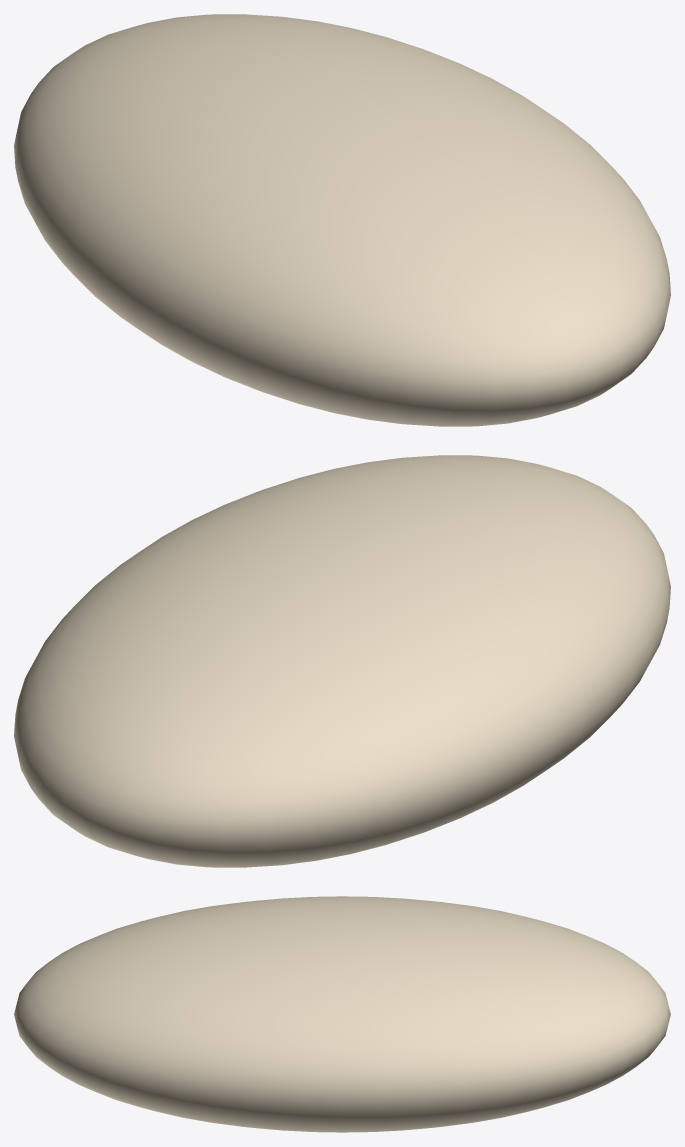
The model's file is pillow.glb.
3 renders of one model, top to bottom at view 1: azimuth 30°, elevation 25°; view 2: azimuth 150°, elevation 25°; view 3: azimuth 270°, elevation 25°, orthographic. The views are drawn at different scales.
Visible parts, largest first — view 1: KiabouPillow; view 2: KiabouPillow; view 3: KiabouPillow.
Boxes of the visible parts, box(x1,y1,x2,y2) form: KiabouPillow: box(14, 14, 670, 426); KiabouPillow: box(14, 455, 670, 867); KiabouPillow: box(14, 896, 670, 1132).
Bounding box in the file's own units: 0.068 × 0.03 × 0.11.
